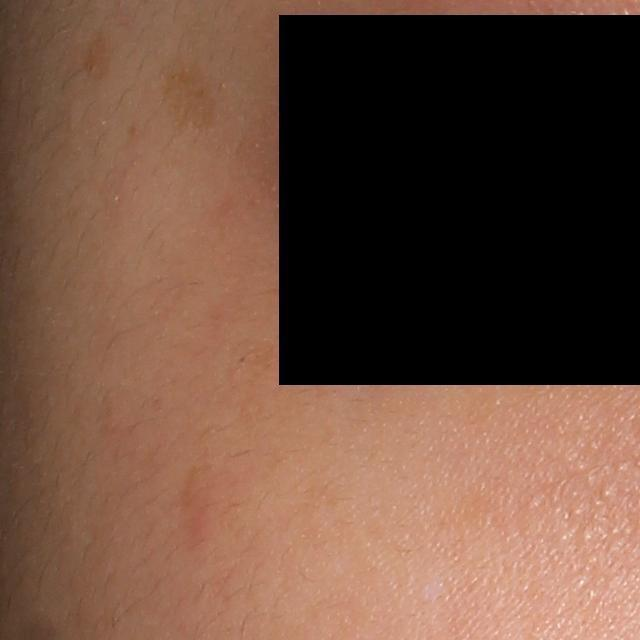melasma: (156, 55, 229, 145), (81, 27, 115, 79)
